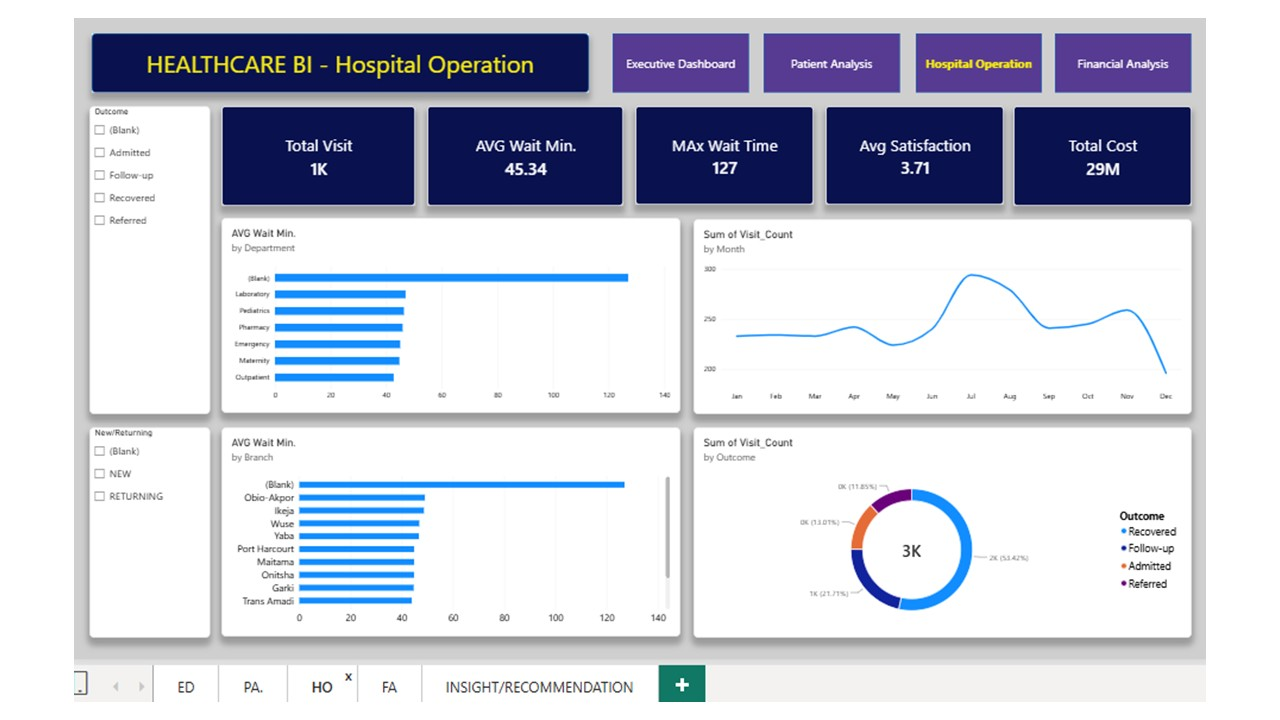

The page's visual inventory and layout, read from the dashboard file:
{"tool":"powerbi","page":{"name":"HO","canvas":[1920,1080],"ordinal":2},"visuals":[{"type":"cardVisual","fields":{"Data":["Patient_Visits.Total Visit"]},"box":[254.9,149,326.2,168.5],"z":0},{"type":"cardVisual","fields":{"Data":["Patient_Visits.AVG Wait Min."]},"box":[600.5,149,330.5,168.5],"z":1000},{"type":"cardVisual","fields":{"Data":["Date_Table.MAx Wait Time"]},"box":[950.4,149,300.2,166.3],"z":2000},{"type":"cardVisual","fields":{"Data":["Patient_Visits.Avg Satisfaction"]},"box":[1270.1,149,300.2,166.3],"z":3000},{"type":"cardVisual","fields":{"Data":["Date_Table.Total Cost"]},"box":[1585.4,149,300.2,168.5],"z":4000},{"type":"clusteredBarChart","title":"Average Waiting Time by Department","fields":{"Category":["Patient_Visits.Department"],"Y":["Patient_Visits.AVG Wait Min."]},"box":[254,338,772,328],"z":5000},{"type":"lineChart","title":"Visit Count by Month","fields":{"Category":["Patient_Visits.Month"],"Y":["Sum(Patient_Visits.Visit_Count)"]},"box":[1048,340,838,328],"z":6000},{"type":"clusteredBarChart","title":"Average Waitin(Min.) by Branch","fields":{"Category":["Patient_Visits.Branch"],"Y":["Patient_Visits.AVG Wait Min."]},"box":[254,690,772,352],"z":7000},{"type":"donutChart","title":"Visit Count by Outcome","fields":{"Category":["Patient_Visits.Outcome"],"Y":["Sum(Patient_Visits.Visit_Count)"]},"box":[1048,690,838,354],"z":8000},{"type":"slicer","fields":{"Values":["Patient_Visits.Outcome"]},"box":[32.4,149,203,518.4],"z":9000},{"type":"slicer","fields":{"Values":["Patient_Visits.New/Returning"]},"box":[32.4,689,203,354.2],"z":10000},{"type":"shape","title":"HEALTHCARE BI","box":[36.7,28.1,835.9,99.4],"z":11000},{"type":"shape","box":[911.5,28.1,229,99.4],"z":12000},{"type":"shape","box":[1166.4,28.1,229,99.4],"z":13000},{"type":"shape","box":[1421.3,28.1,211.7,99.4],"z":14000},{"type":"shape","box":[1656.7,28.1,229,99.4],"z":15000}]}

Visuals, with their boxes on the page's 1920x1080 design canvas (x1, y1, x2, y2). These are canvas units, not pixel positions in the 1280x720 screenshot, which may show the page scaled, cropped or inside an application window:
cardVisual - Patient_Visits.Total Visit: (255, 149, 581, 318)
cardVisual - Patient_Visits.AVG Wait Min.: (600, 149, 931, 318)
cardVisual - Date_Table.MAx Wait Time: (950, 149, 1251, 315)
cardVisual - Patient_Visits.Avg Satisfaction: (1270, 149, 1570, 315)
cardVisual - Date_Table.Total Cost: (1585, 149, 1886, 318)
"Average Waiting Time by Department" clusteredBarChart: (254, 338, 1026, 666)
"Visit Count by Month" lineChart: (1048, 340, 1886, 668)
"Average Waitin(Min.) by Branch" clusteredBarChart: (254, 690, 1026, 1042)
"Visit Count by Outcome" donutChart: (1048, 690, 1886, 1044)
slicer - Patient_Visits.Outcome: (32, 149, 235, 667)
slicer - Patient_Visits.New/Returning: (32, 689, 235, 1043)
"HEALTHCARE BI" shape: (37, 28, 873, 128)
shape: (912, 28, 1140, 128)
shape: (1166, 28, 1395, 128)
shape: (1421, 28, 1633, 128)
shape: (1657, 28, 1886, 128)
